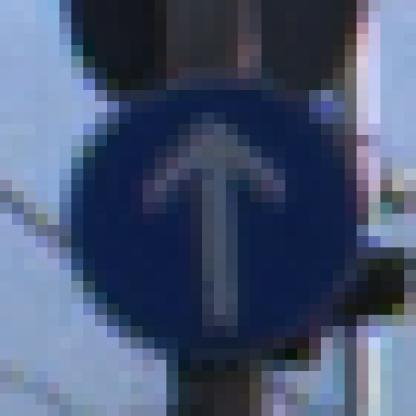AheadOnly: (61, 68, 358, 361)
